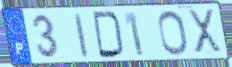1: (124, 10, 145, 58)
3: (31, 13, 61, 61)
D: (91, 11, 126, 60)
I: (73, 12, 90, 60)
O: (157, 10, 191, 57)
X: (187, 8, 224, 56)
